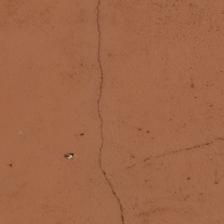Crack: (46, 2, 83, 222)
